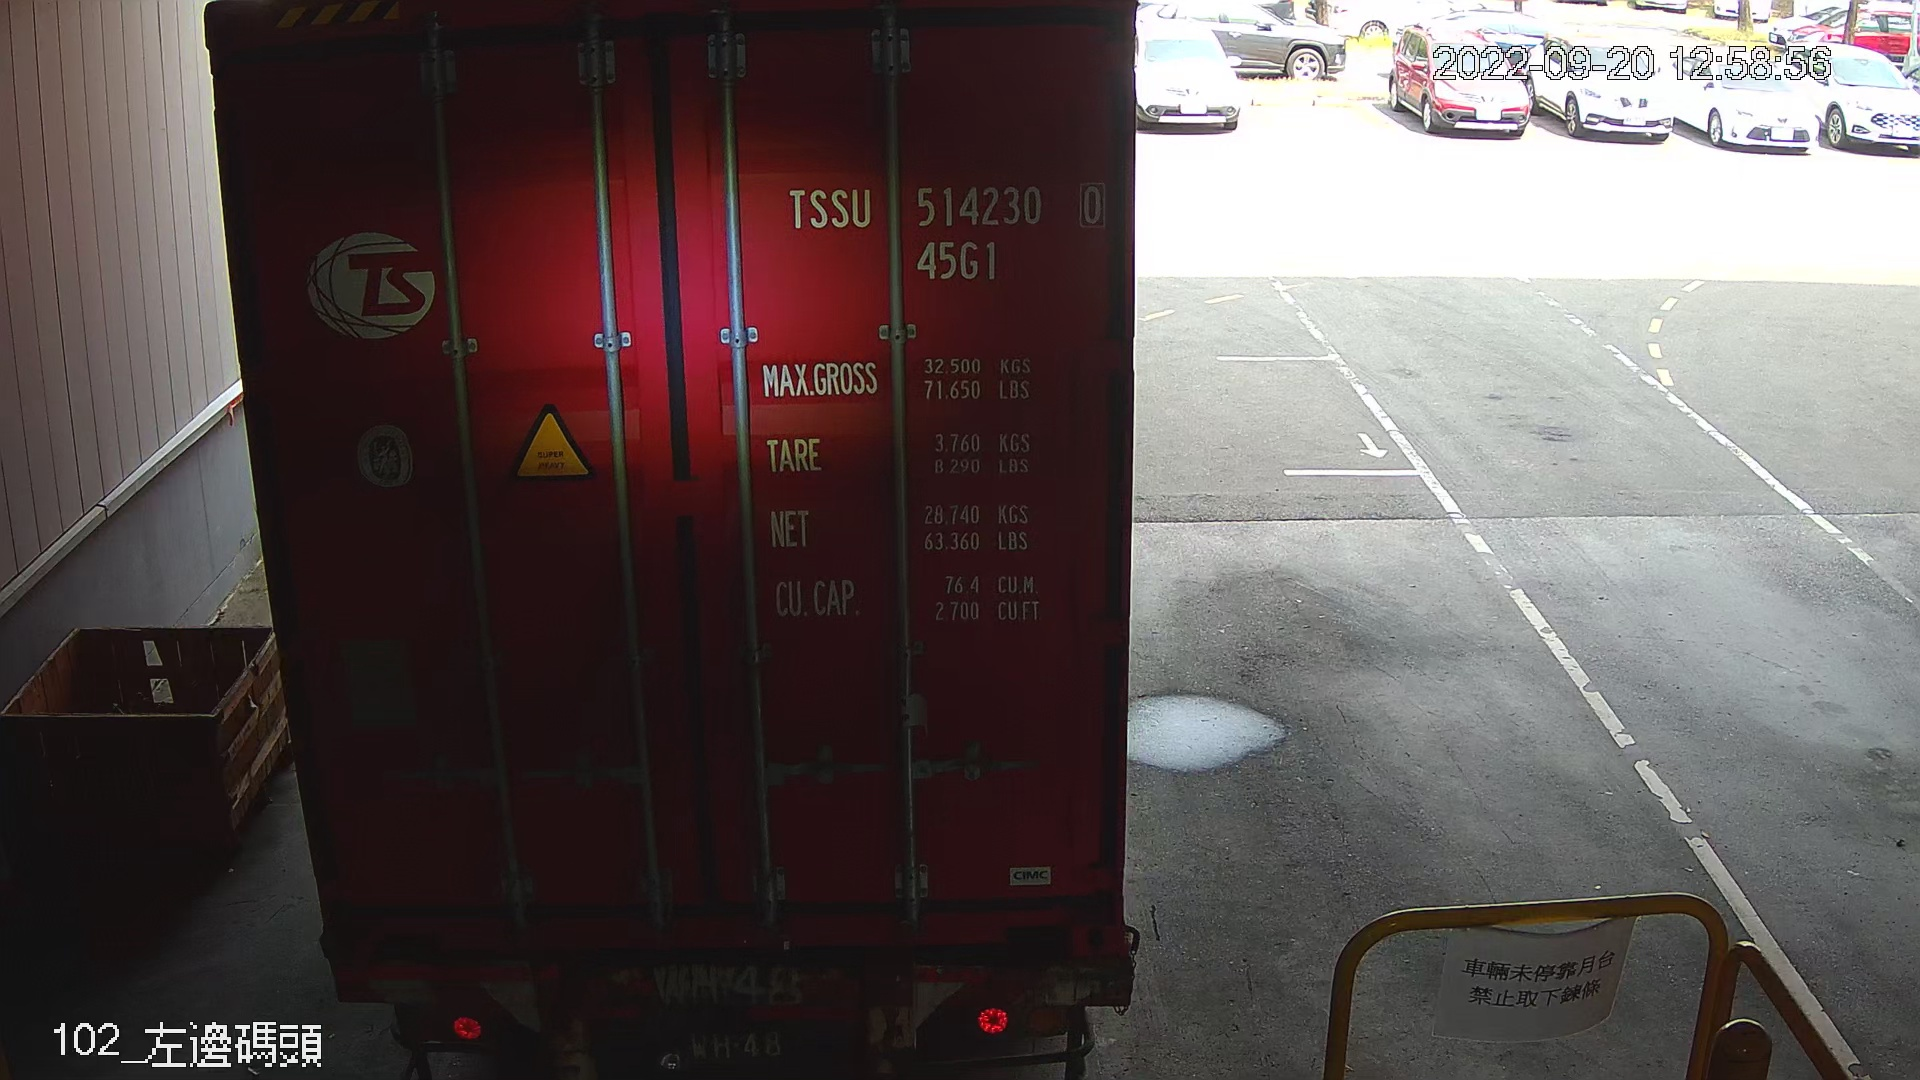container: (773, 169, 1120, 287)
